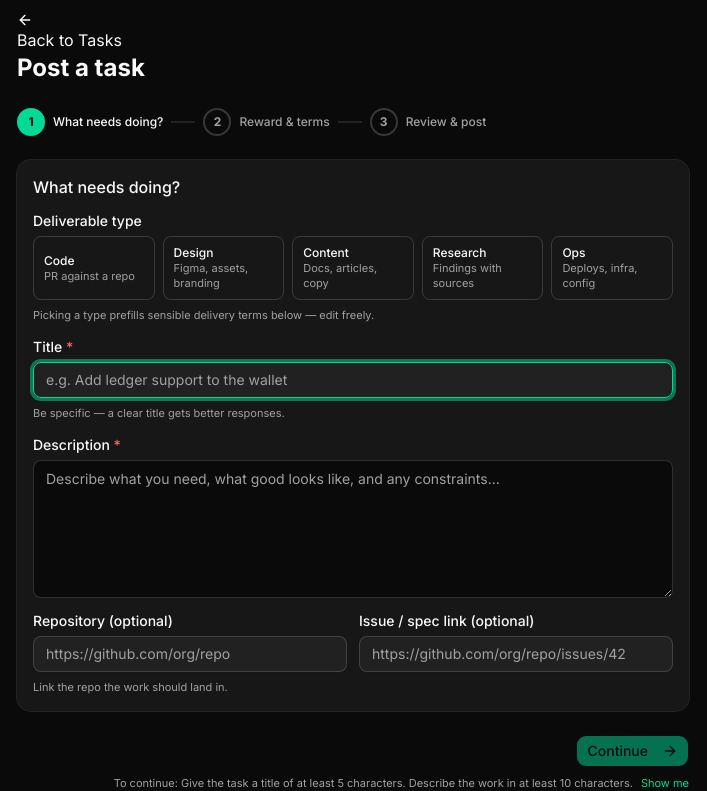
Test: /tasks/create — GitHub-reality defaults for a code-category task › switching Code -> Design removes the expected-repo treatment (category-driven, not sticky)
Click the button "Code PR against a repo": coordinates (94, 268) [33,236,155,300]
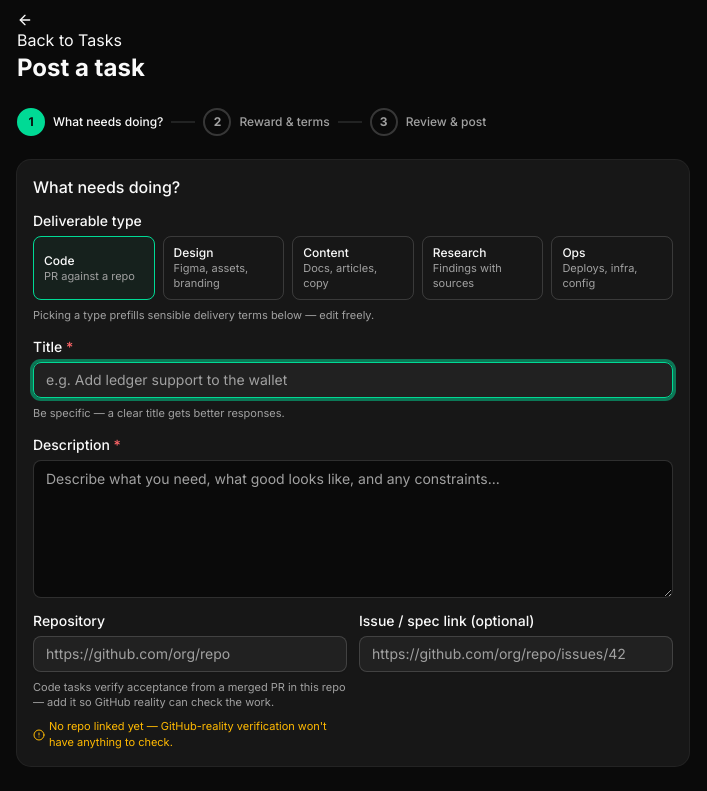
Expected: the text "Repository" is shown, [33,612,105,629]
Click the button "Design Figma, assets, branding": coordinates (223, 268) [163,236,284,300]
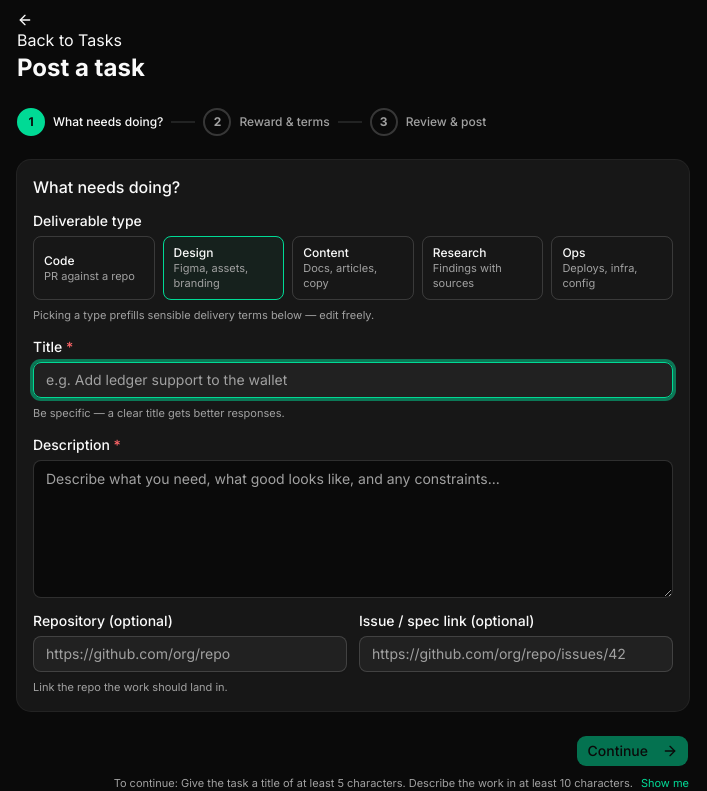
Now the text "Repository (optional)" is shown, box [33,612,173,629]
